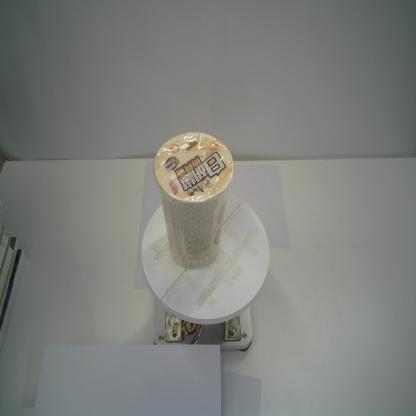Instant Noodles: (151, 130, 236, 271)
